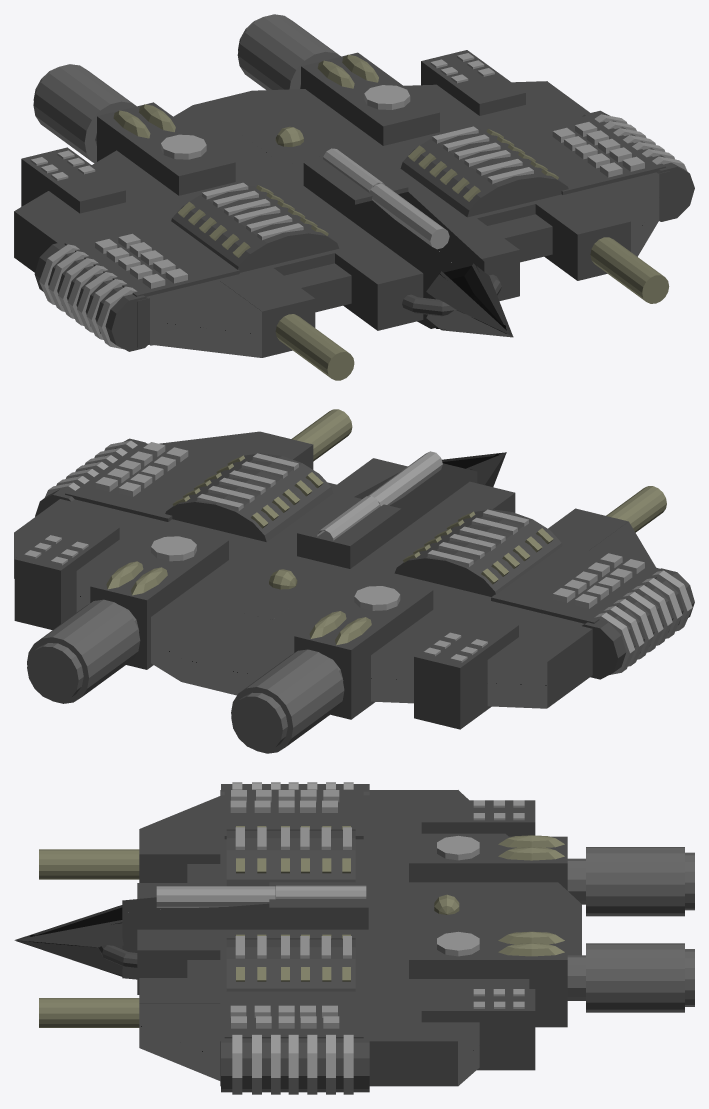
File: bomber.obj
3 views of the same model, one above another, from view 1: azimuth 30°, elevation 25°; view 2: azimuth 150°, elevation 25°; view 3: azimuth 270°, elevation 25° (orthographic). The views are drawn at different scales.
Parts seen in each view (by area): view 1: Body, Body_back, Front_Center_Box, Right_Gun_Box_Des, Left_Cargo, Right_Cargo, Left_Engne_Box01, Left_Engne_Box, Left_Side_Box, Right_Engine, Left_Gun_Box, Left_Engine (+33 smaller); view 2: Body, Body_back, Right_Back_Box, Left_Engne_Box01, Left_Back_Box, Left_Cargo, Right_Cargo, Left_Engne_Box, Left_Side_Box, Left_Engine, Right_Engine, Left_Side_Box01 (+29 smaller); view 3: Body, Body_back, Left_Engne_Box, Left_Engine, Right_Engine, Left_Back_Box, Left_Engne_Box01, Right_Cargo, Left_Cargo, Left_Gun_Box_Des, Left_Side_Box01, Side_Front_Cyl01 (+36 smaller).
Part boxes in pixels (box(x1,y1,x2,y2)): Body: box(14, 81, 670, 347); Body_back: box(14, 81, 547, 257); Front_Center_Box: box(335, 214, 519, 330); Right_Gun_Box_Des: box(147, 281, 261, 357); Left_Cargo: box(400, 129, 568, 217); Right_Cargo: box(171, 185, 339, 272); Left_Engne_Box01: box(97, 102, 235, 195); Left_Engne_Box: box(301, 52, 439, 145); Left_Side_Box: box(64, 218, 239, 296); Right_Engine: box(33, 64, 136, 163); Left_Gun_Box: box(533, 189, 630, 280); Left_Engine: box(237, 14, 340, 90); Body: box(15, 490, 592, 707); Body_back: box(14, 532, 547, 708); Right_Back_Box: box(414, 614, 518, 729); Left_Engne_Box01: box(294, 576, 433, 719); Left_Back_Box: box(14, 516, 119, 629); Left_Cargo: box(165, 453, 333, 542); Right_Cargo: box(394, 509, 562, 596); Left_Engne_Box: box(90, 526, 228, 669); Left_Side_Box: box(491, 545, 665, 623); Left_Engine: box(27, 599, 140, 703); Right_Engine: box(231, 649, 344, 753); Left_Side_Box01: box(65, 441, 227, 521); Body: box(220, 790, 458, 1086); Body_back: box(458, 790, 581, 1086); Left_Engne_Box: box(409, 933, 567, 1027); Left_Engine: box(586, 943, 684, 1012); Right_Engine: box(586, 847, 684, 916); Left_Back_Box: box(421, 989, 535, 1070); Left_Engne_Box01: box(409, 836, 567, 890); Right_Cargo: box(226, 829, 355, 886); Left_Cargo: box(226, 938, 355, 991); Left_Gun_Box_Des: box(139, 1003, 224, 1080); Left_Side_Box01: box(224, 988, 363, 1038); Side_Front_Cyl01: box(221, 1035, 369, 1092).
Size of the model in its own units: 133 by 20.9 by 137.
